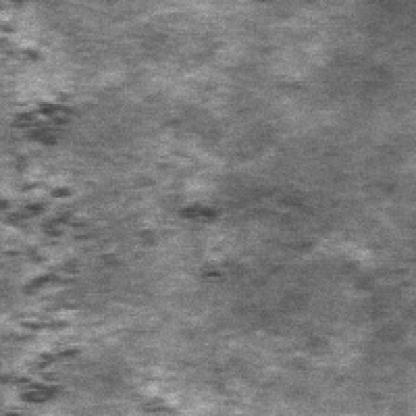rolled-in_scale: (4, 164, 127, 408), (160, 173, 368, 289), (3, 13, 88, 170)
